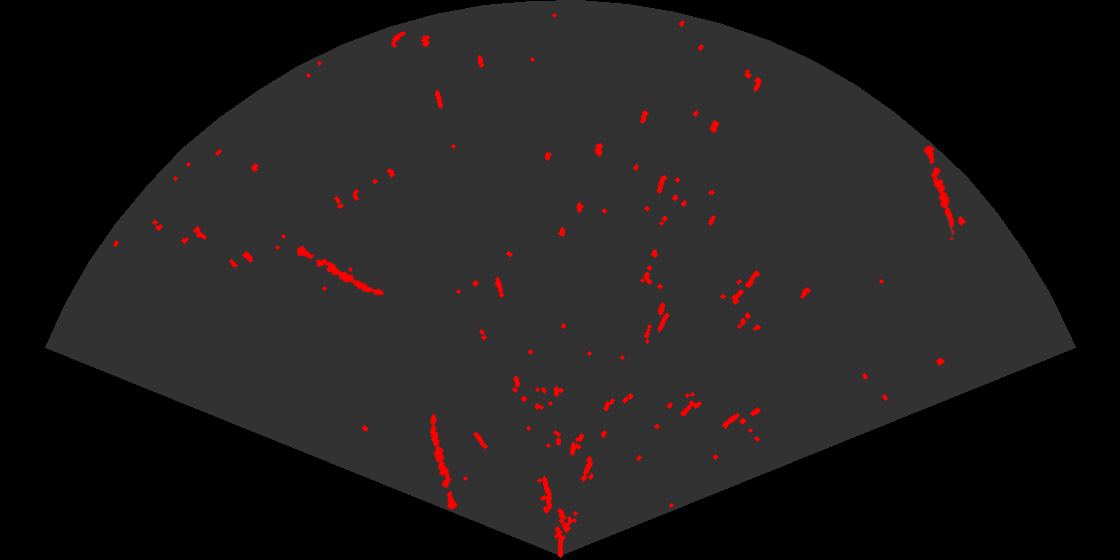chain: (295, 244, 385, 297), (922, 143, 957, 242), (428, 412, 459, 512)
